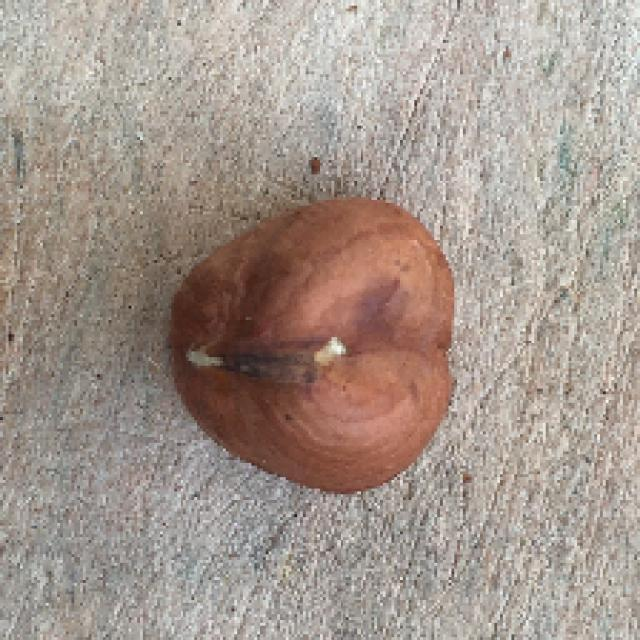hazelnut: (157, 186, 476, 515)
